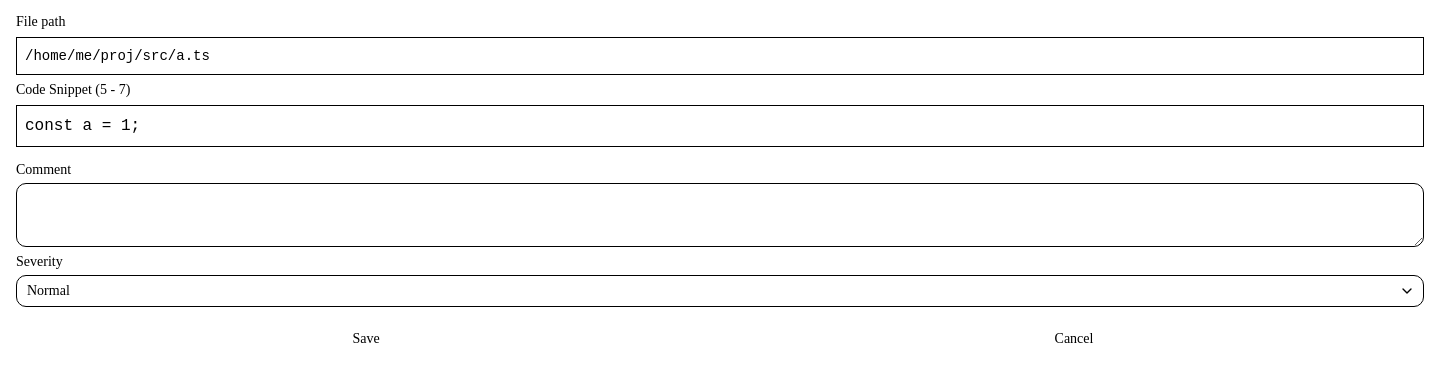
Test: CairnForm › shows a validation error and does not submit an empty comment
The image size is (1440, 386).
Step 1. Click the button "Save" → (366, 339), box [16, 323, 716, 355]
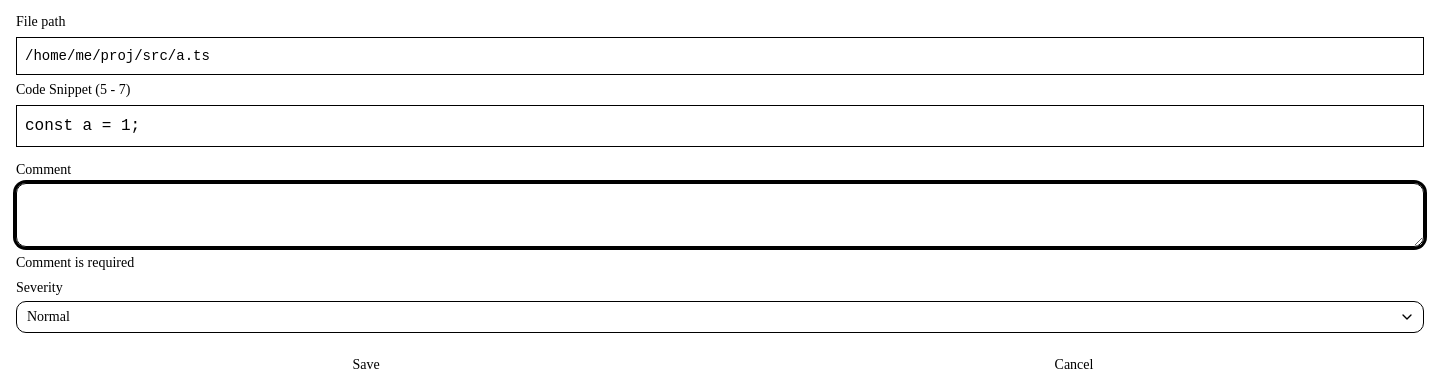
Check: the message reads "Comment is required", box [16, 255, 134, 270]
